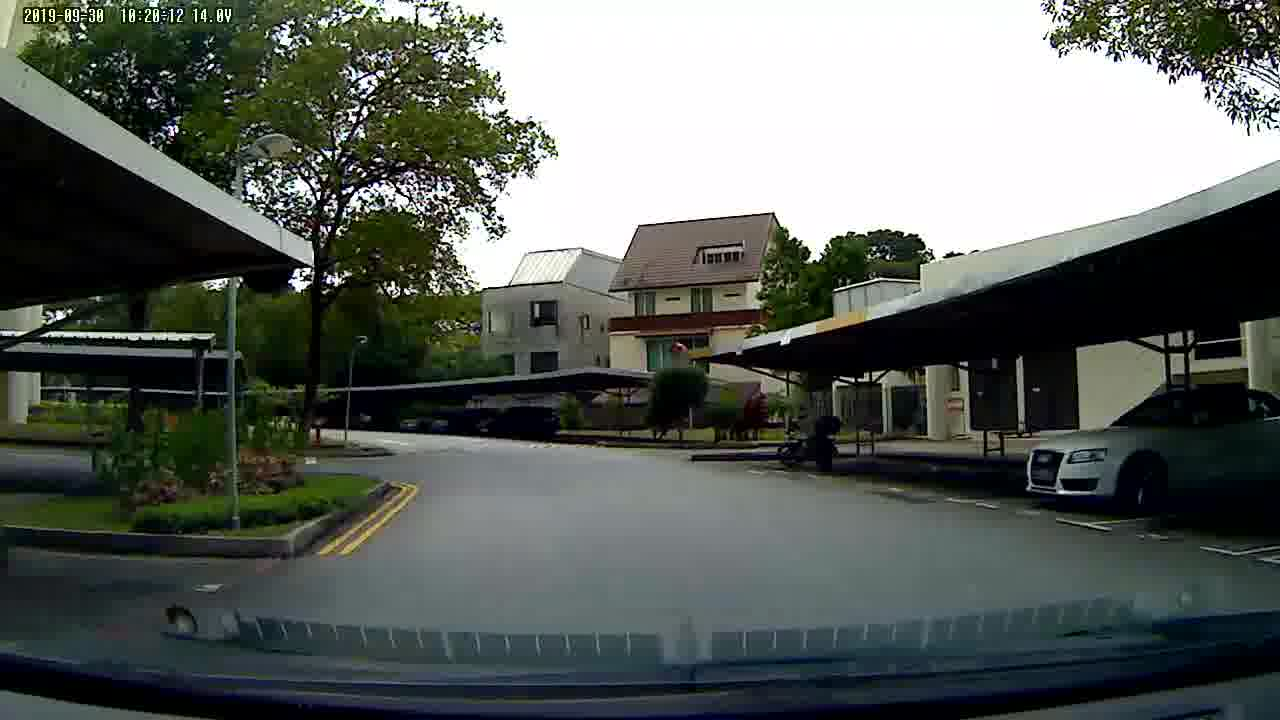car: (1013, 381, 1280, 511)
